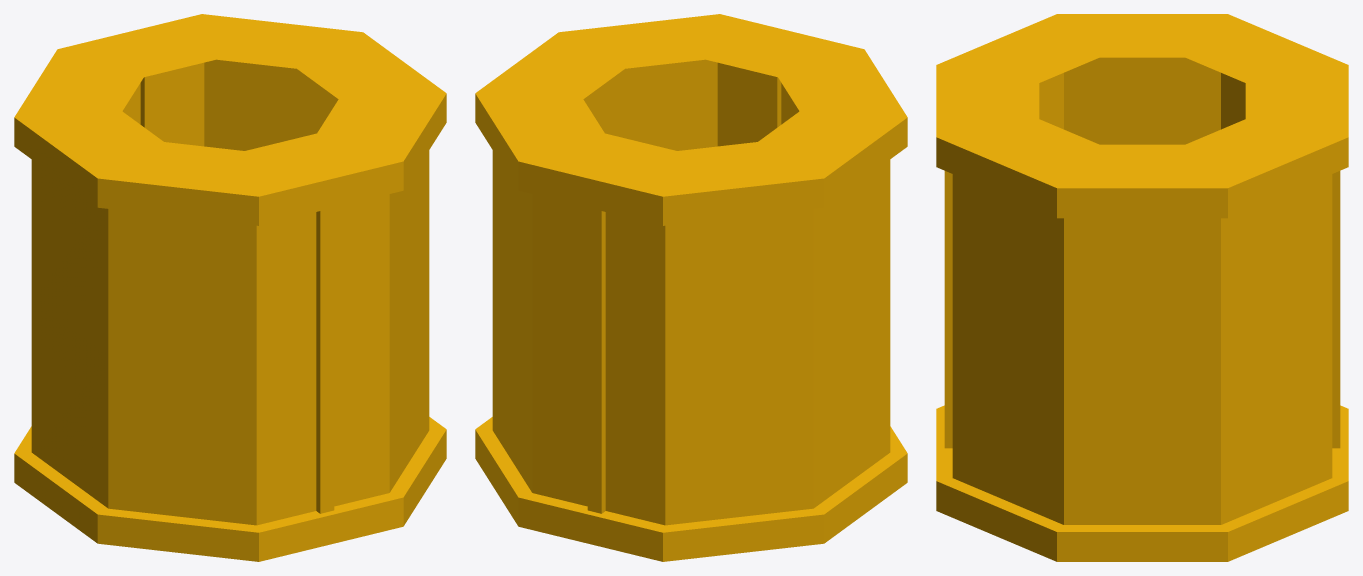
File: catalytic_converter_paintable_1x1.dae
3 renders of one model, left to right at view 1: azimuth 30°, elevation 25°; view 2: azimuth 150°, elevation 25°; view 3: azimuth 270°, elevation 25°, orthographic. The views are drawn at different scales.
Visible parts, largest first — view 1: Cube; view 2: Cube; view 3: Cube.
Boxes of the visible parts, x1,y1,x2,y2 form: Cube: (14, 14, 446, 561); Cube: (475, 14, 907, 561); Cube: (936, 14, 1348, 561).
Bounding box in the file's own units: 0.25 × 0.25 × 0.25.
